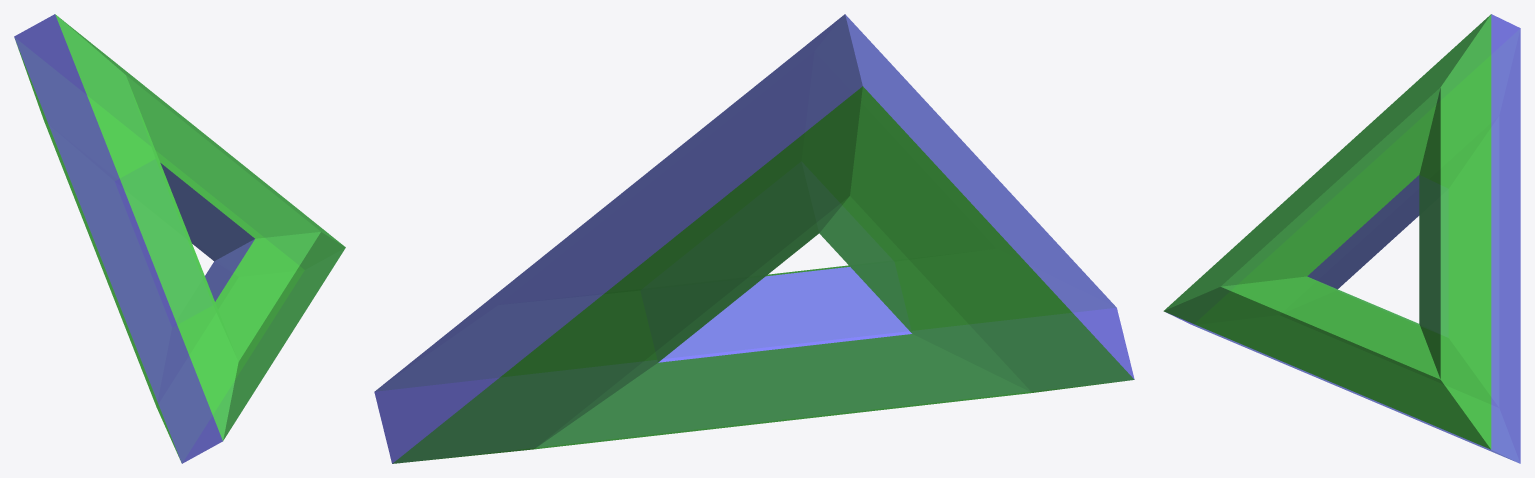
File: Regular3TetragonalToroid_A.obj
3 views of the same model, side by side, from view 1: azimuth 30°, elevation 25°; view 2: azimuth 150°, elevation 25°; view 3: azimuth 270°, elevation 25° (orthographic). The views are drawn at different scales.
Size of the model in its own units: 24.35 by 24.35 by 24.35.
